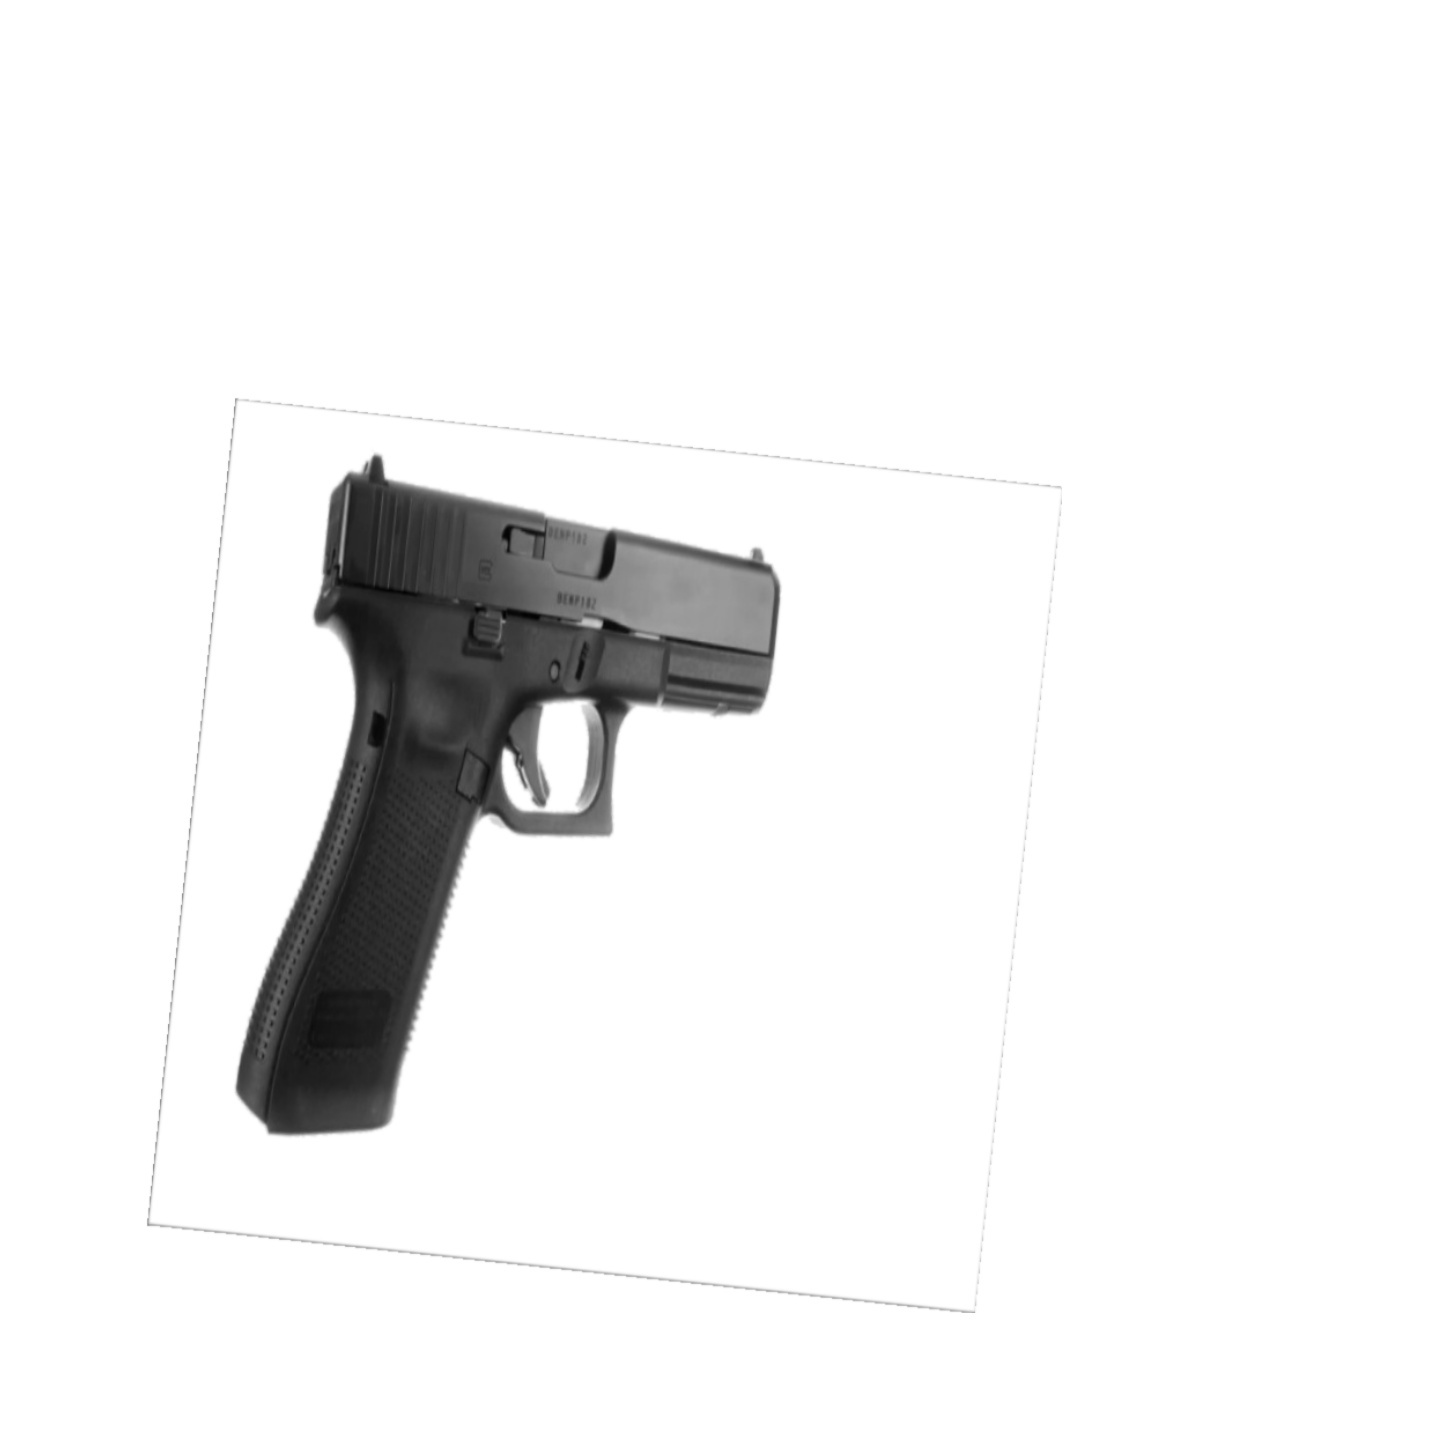gun: (226, 446, 795, 1151)
